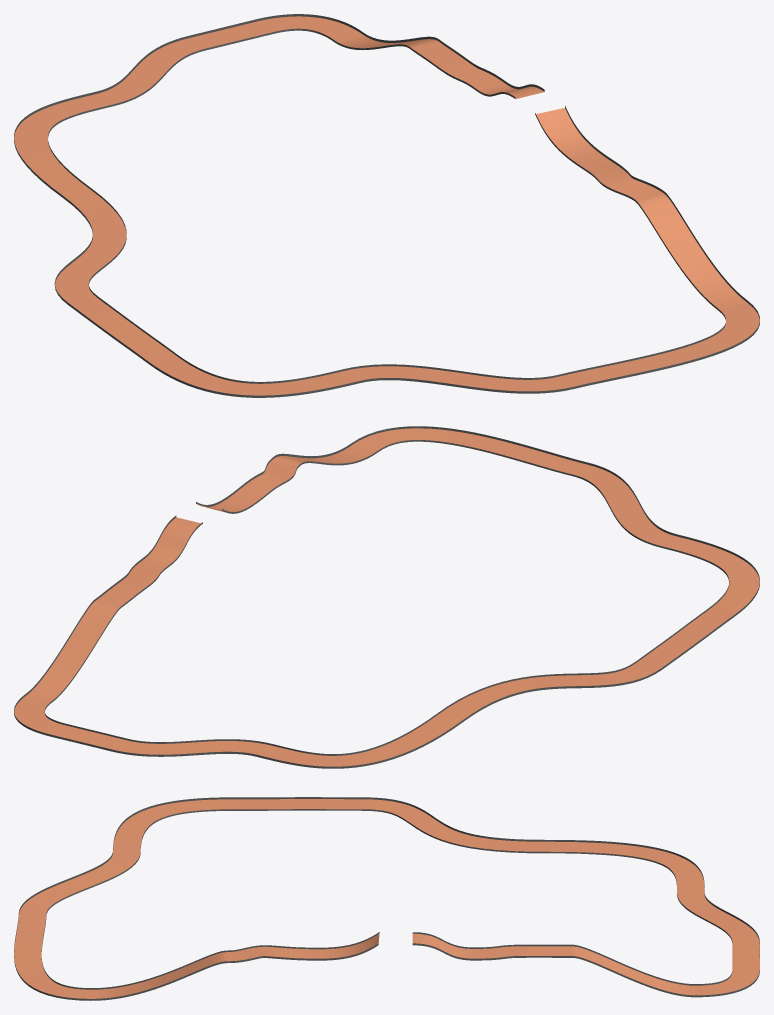
The model's file is Track.fbx.
The picture shows the model from 3 angles, top to bottom: view 1: azimuth 30°, elevation 25°; view 2: azimuth 150°, elevation 25°; view 3: azimuth 270°, elevation 25°; orthographic projection. The views are drawn at different scales.
Visible parts, largest first — view 1: Track.002; view 2: Track.002; view 3: Track.002.
Boxes of the visible parts, x1,y1,x2,y2 form: Track.002: (14, 14, 759, 397); Track.002: (14, 426, 759, 768); Track.002: (14, 797, 759, 1000).
Size of the model in its own units: 777 by 102 by 1206.
